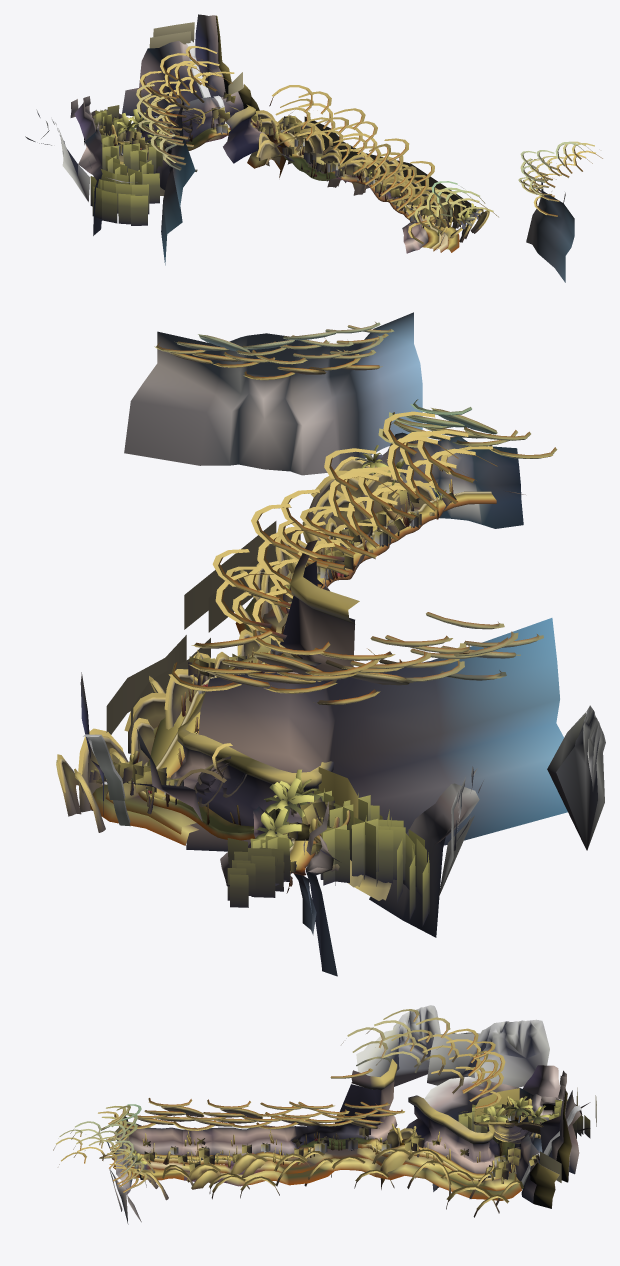
Rendered from 01Chase.gltf.
3 views of the same model, one above another, from view 1: azimuth 30°, elevation 25°; view 2: azimuth 150°, elevation 25°; view 3: azimuth 270°, elevation 25° (orthographic). The views are drawn at different scales.
Parts seen in each view (by area): view 1: stg020_o01_Mesh_15, stg020_p01_Mesh_3, stg020_o01_Mesh_0, stg020_p13_Mesh_2, stg020_o01_Mesh_17, stg020_p13_Mesh_4, stg020_p13_Mesh_0, stg020_o13_Mesh_0, stg020_p01_Mesh_21, stg020_a13_Mesh_0, stg020_falls_w_01_Mesh_0000; view 2: stg020_o01_Mesh_15, stg020_o01_Mesh_0, stg020_p01_Mesh_3, stg020_o01_Mesh_17, stg020_p13_Mesh_2, stg020_p13_Mesh_4, stg020_p13_Mesh_0, stg020_o13_Mesh_0, stg020_falls_w_01_Mesh_0000, stg020_p01_Mesh_21; view 3: stg020_o01_Mesh_15, stg020_o01_Mesh_0, stg020_o01_Mesh_17, stg020_p01_Mesh_3, stg020_p13_Mesh_0, stg020_p13_Mesh_2, stg020_a13_Mesh_0, stg020_o13_Mesh_0, stg020_p13_Mesh_4, stg020_p01_Mesh_21, stg020_a01_Mesh_3, stg020_falls_w_01_Mesh_0000.
Part boxes in pixels (box(x1,y1,x2,y2)): stg020_o01_Mesh_15: box(25, 14, 574, 282); stg020_p01_Mesh_3: box(136, 45, 595, 238); stg020_o01_Mesh_0: box(139, 48, 602, 244); stg020_p13_Mesh_2: box(90, 105, 481, 234); stg020_o01_Mesh_17: box(111, 104, 459, 252); stg020_p13_Mesh_4: box(112, 22, 471, 227); stg020_p13_Mesh_0: box(96, 92, 446, 228); stg020_o13_Mesh_0: box(108, 117, 449, 228); stg020_p01_Mesh_21: box(101, 122, 418, 222); stg020_a13_Mesh_0: box(129, 15, 259, 144); stg020_falls_w_01_Mesh_0000: box(186, 40, 229, 127); stg020_o01_Mesh_15: box(80, 312, 605, 976); stg020_o01_Mesh_0: box(56, 322, 557, 832); stg020_p01_Mesh_3: box(57, 322, 552, 807); stg020_o01_Mesh_17: box(89, 491, 496, 900); stg020_p13_Mesh_2: box(227, 445, 429, 926); stg020_p13_Mesh_4: box(106, 521, 358, 824); stg020_p13_Mesh_0: box(89, 486, 456, 872); stg020_o13_Mesh_0: box(129, 449, 453, 875); stg020_falls_w_01_Mesh_0000: box(83, 734, 130, 826); stg020_p01_Mesh_21: box(133, 512, 421, 873); stg020_o01_Mesh_15: box(106, 1005, 590, 1224); stg020_o01_Mesh_0: box(53, 1011, 542, 1217); stg020_o01_Mesh_17: box(111, 1059, 540, 1200); stg020_p01_Mesh_3: box(56, 1009, 543, 1209); stg020_p13_Mesh_0: box(144, 1102, 554, 1179); stg020_p13_Mesh_2: box(127, 1096, 590, 1179); stg020_a13_Mesh_0: box(506, 1091, 571, 1208); stg020_o13_Mesh_0: box(125, 1096, 531, 1182); stg020_p13_Mesh_4: box(474, 1087, 596, 1182); stg020_p01_Mesh_21: box(170, 1111, 516, 1177); stg020_a01_Mesh_3: box(423, 1139, 519, 1173); stg020_falls_w_01_Mesh_0000: box(521, 1105, 581, 1185).
Size of the model in its own units: 655 by 243 by 805.
